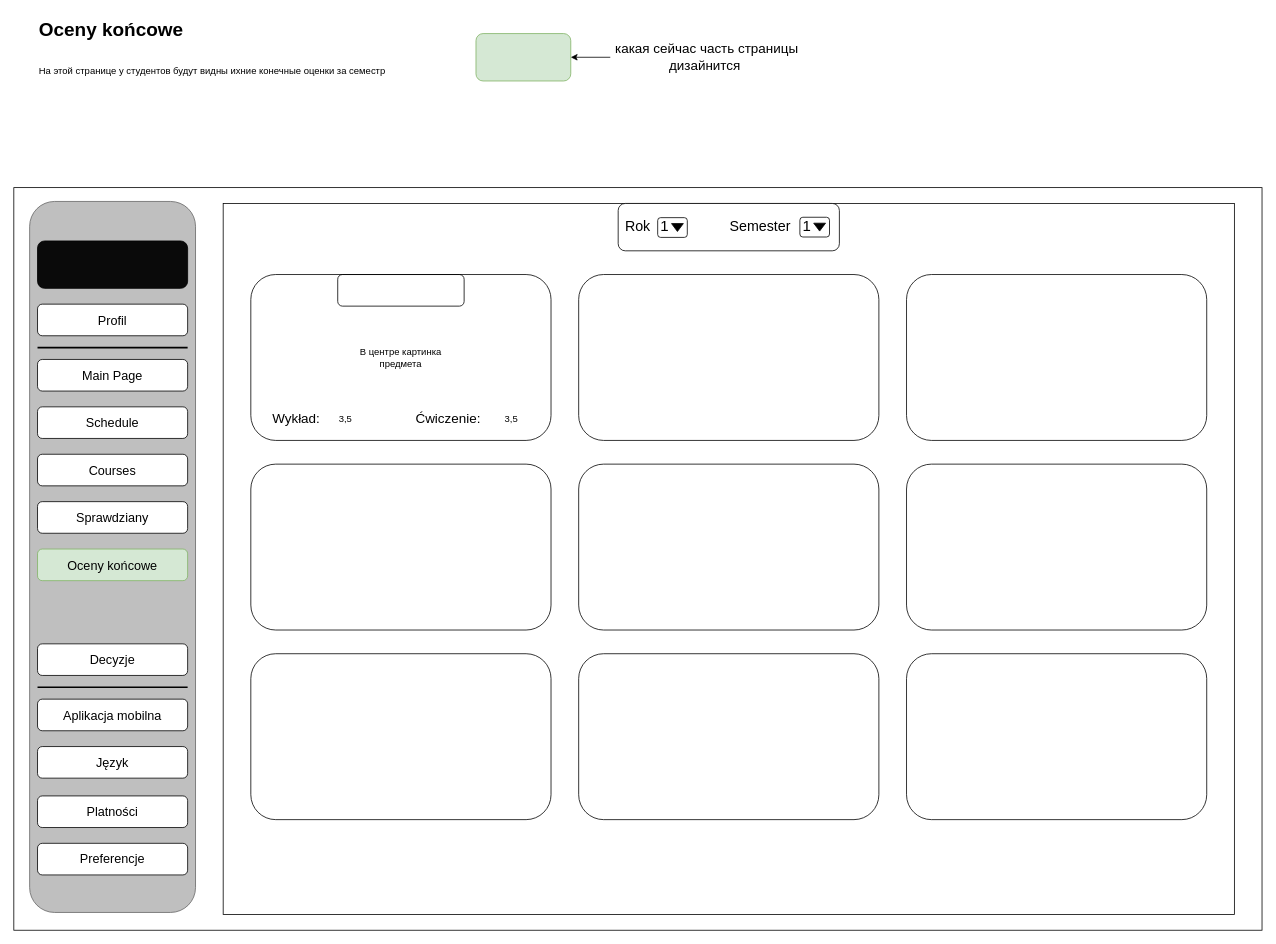
The diagram is 1276 pixels wide and 944 high, and some of its shapes have lost their labels. The shapes that lost their labels are listed below. From the top down, each one's box as (x1, y1, x2, y2) in pixels, then its label:
(37, 240, 188, 288): Learny
(337, 274, 464, 306): Nazwa przedmiotu
